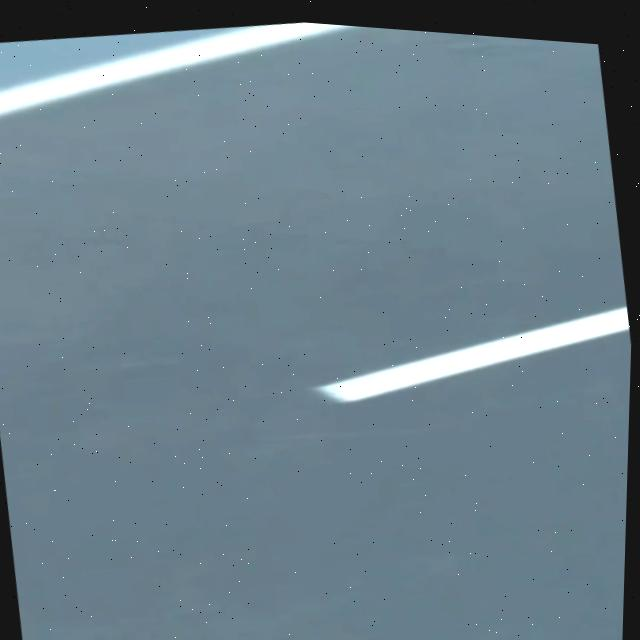center: (314, 305, 629, 400)
left: (0, 22, 350, 114)
